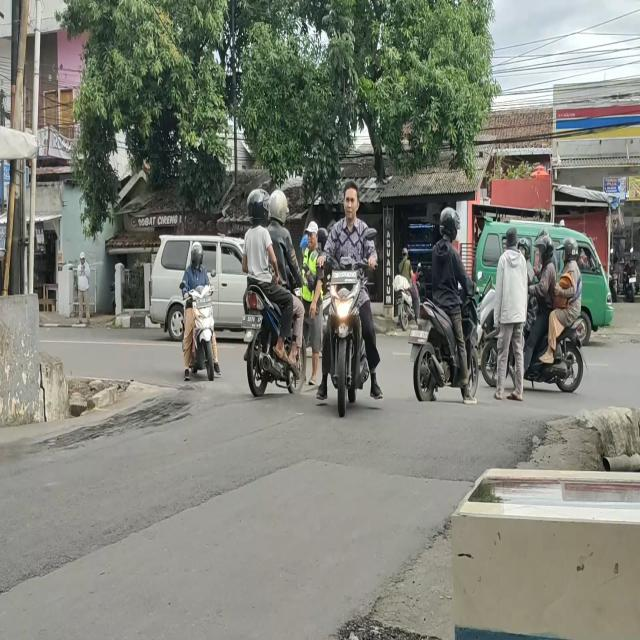helmet: (244, 188, 270, 227), (270, 187, 290, 224), (441, 209, 459, 241), (535, 237, 553, 269), (562, 237, 578, 262), (190, 242, 202, 266)
no-helmet: (342, 187, 361, 220), (400, 245, 409, 261)
